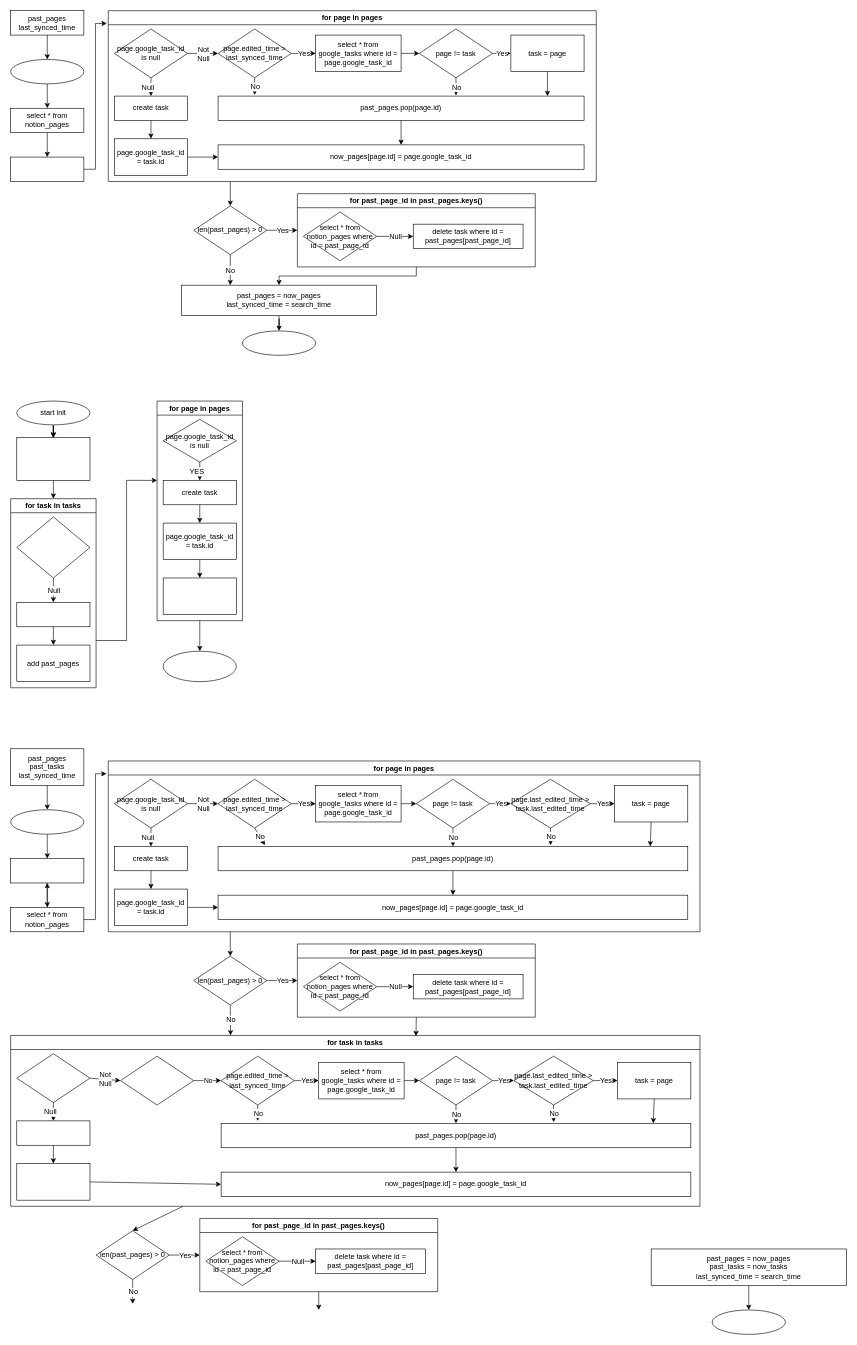
Some shapes in this 857 by 1345 pixel diagram are drawn without their labels. The shapes that lost their labels are listed below. From the top down, each one's centre as x and y in pixels, then its label:
pixel 47 71: start sync notion to google
pixel 47 168: search_time = callback.search_time
pixel 279 342: end sync notion to google
pixel 53 458: select * from notion_pages select * from google_tasks
pixel 53 547: select page from notion where google_task_id = task.id
pixel 53 614: create notion
pixel 199 596: add past_tasks
pixel 199 666: end init
pixel 47 821: start sync
pixel 47 870: search_time = now() - 5min
pixel 53 1078: select * from notion_page where google_task_id = task.id
pixel 157 1080: task['deleted']
pixel 53 1132: create page
pixel 53 1181: page.google task id = task.id
pixel 748 1321: end sync
